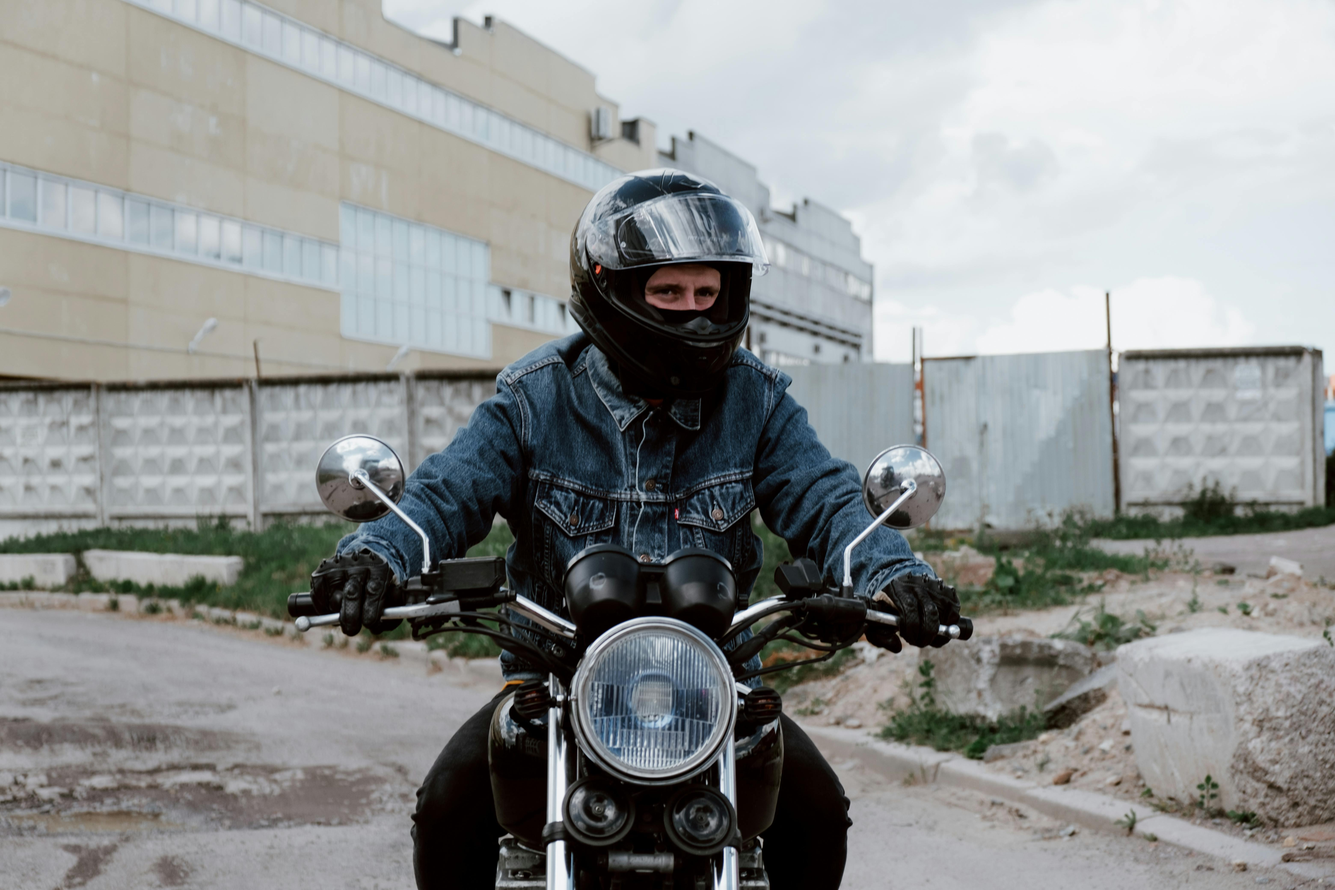Helmet: (569, 169, 767, 398)
